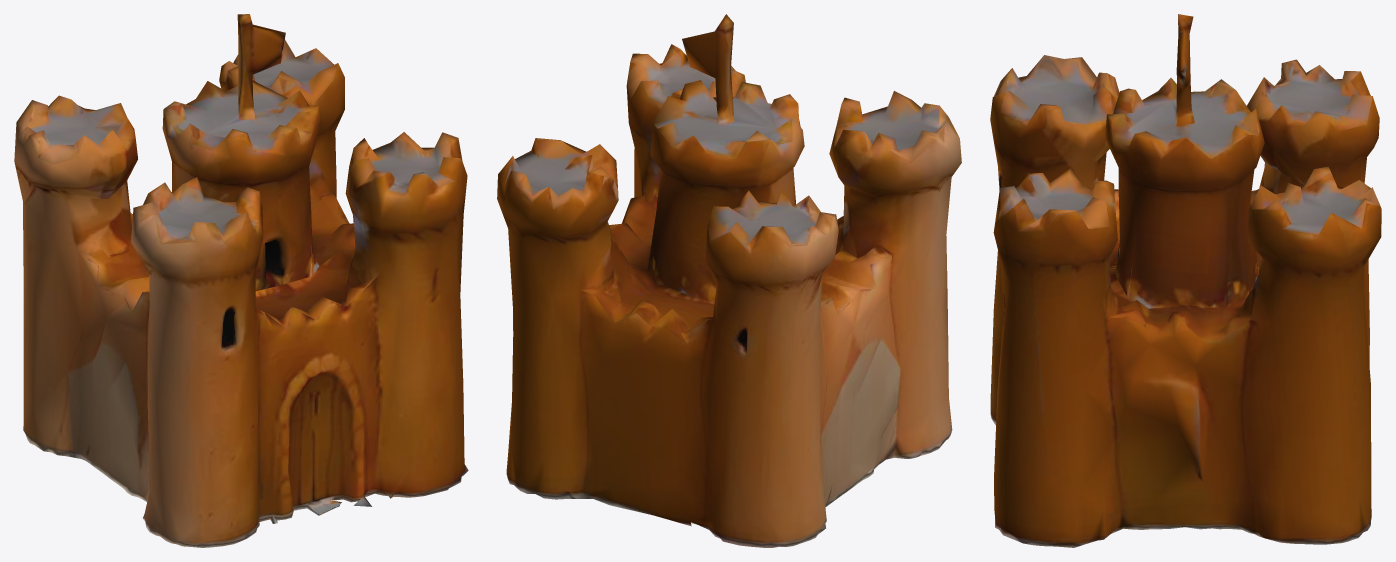
Rendered from prop_castle_keep.glb.
The picture shows the model from 3 angles, left to right: view 1: azimuth 30°, elevation 25°; view 2: azimuth 150°, elevation 25°; view 3: azimuth 270°, elevation 25°; orthographic projection. The views are drawn at different scales.
Parts seen in each view (by area): view 1: geometry_0; view 2: geometry_0; view 3: geometry_0.
Part boxes in pixels (<box>): geometry_0: <box>14,14,468,547</box>; geometry_0: <box>497,14,961,547</box>; geometry_0: <box>990,14,1381,547</box>.
Size of the model in its own units: 0.9922 by 1.3 by 0.9987.
Materials: 1 (1 with a texture image).
